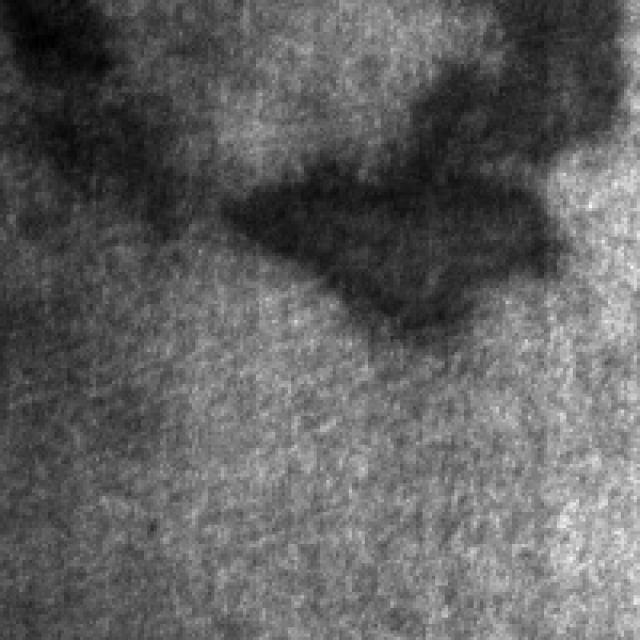patches: (234, 13, 579, 326), (26, 16, 195, 240), (10, 3, 119, 96)
